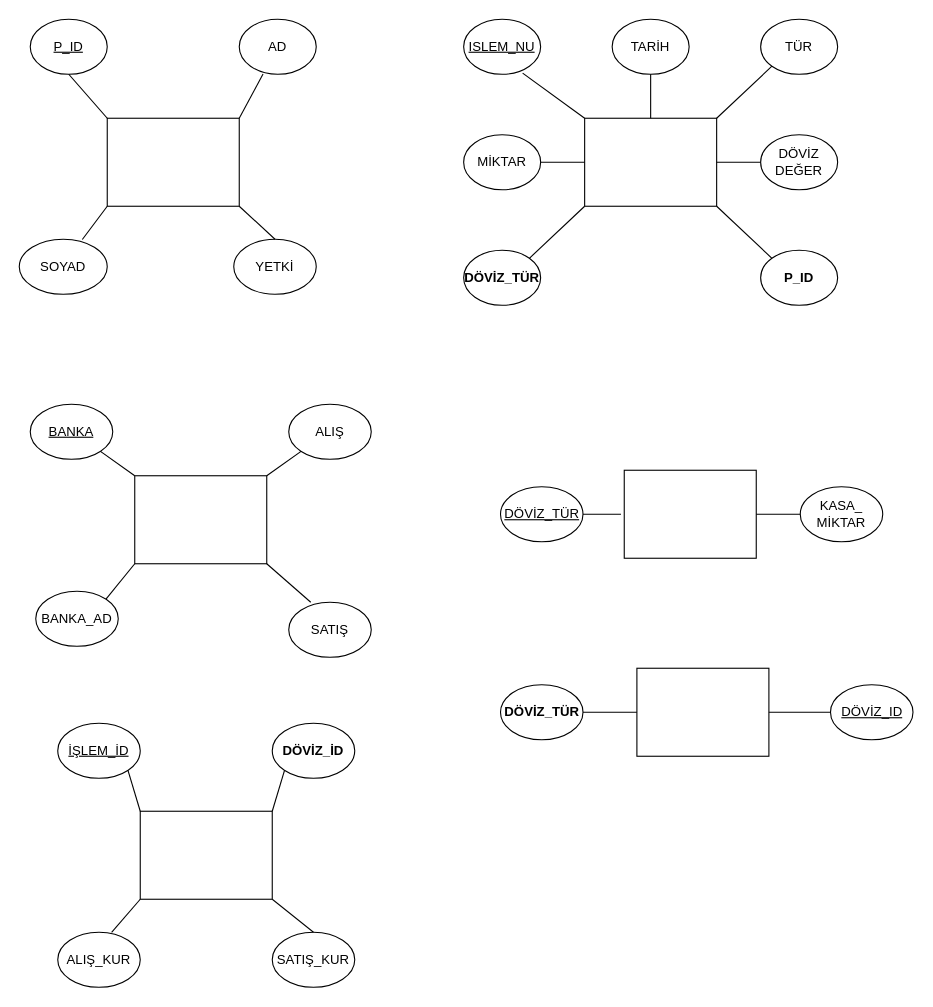
Some shapes in this 933 by 1007 pixel diagram are drawn without their labels. The box of each missing label's shape, as (x1, y1, x2, y2) in pixels:
BANKA KURLARI: (134, 475, 267, 564)
DÖVİZ: (636, 667, 769, 756)
İŞLEM: (139, 810, 272, 899)
KASA: (623, 469, 756, 558)
MUHASEBE: (584, 117, 717, 206)
PERSONEL: (106, 117, 239, 206)
